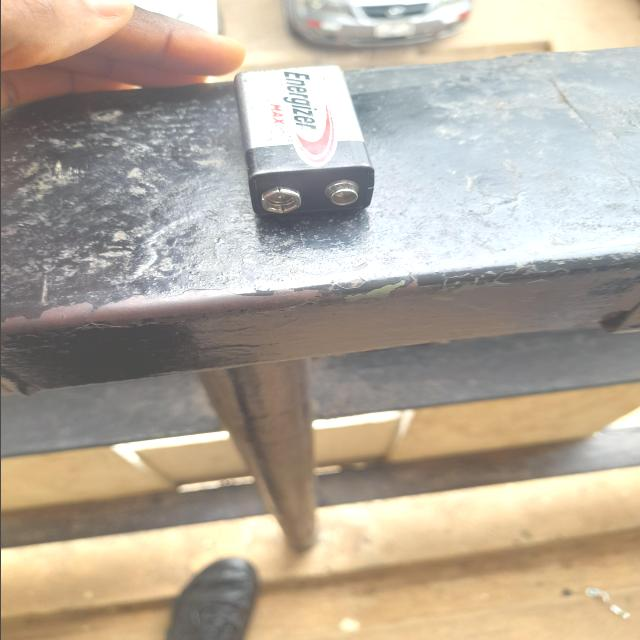9V: (250, 414, 410, 582)
